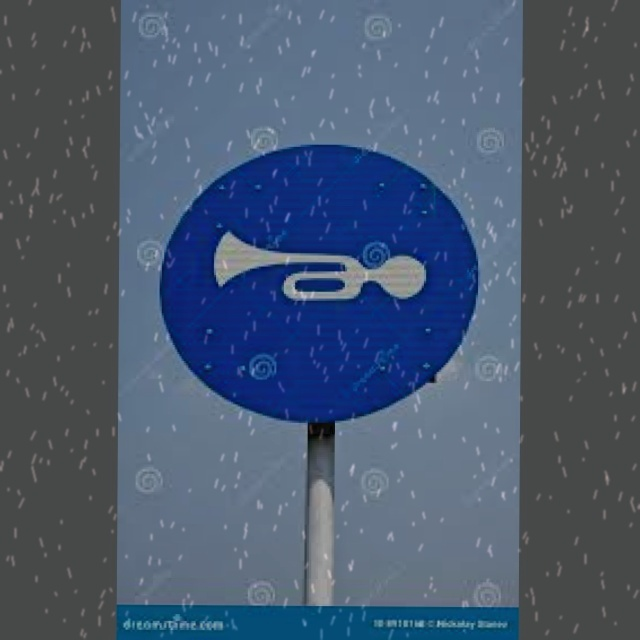Compulsory_Sound_Horn: (160, 139, 479, 417)
